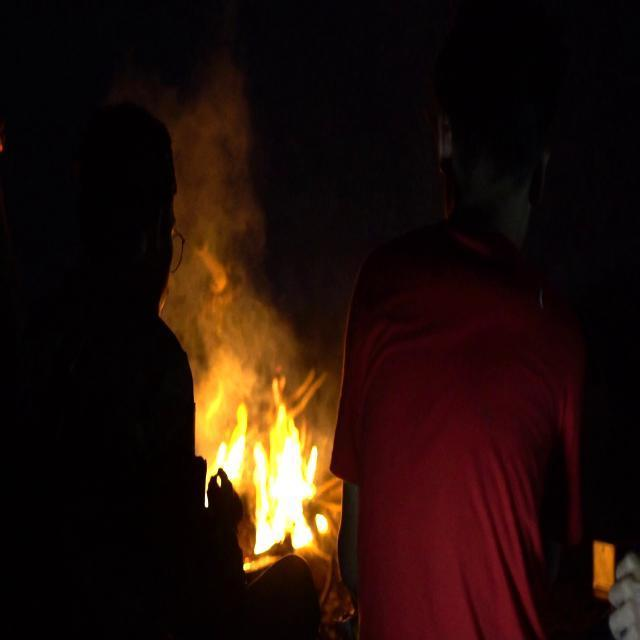Fire: (214, 377, 344, 579)
Smoke: (148, 16, 312, 367)
